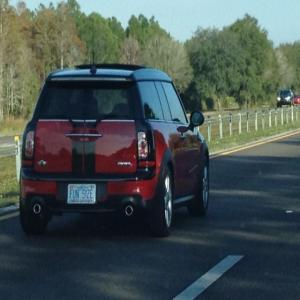Plate: (67, 184, 96, 204)
